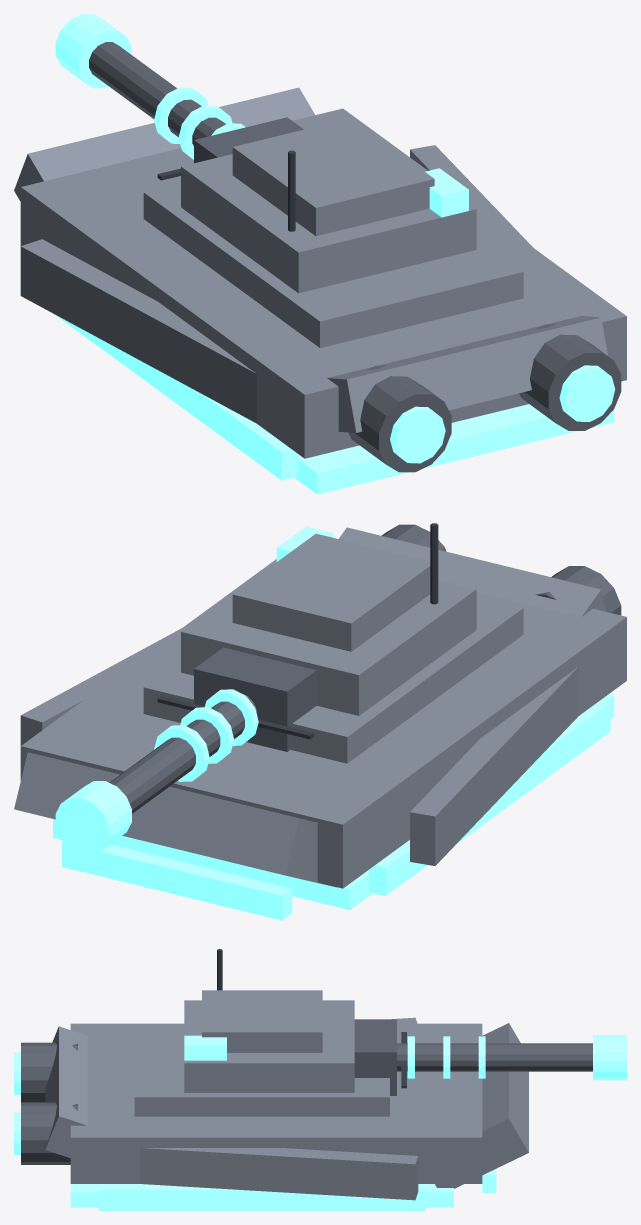
File: tank_hover.glb
3 renders of one model, top to bottom at view 1: azimuth 30°, elevation 25°; view 2: azimuth 150°, elevation 25°; view 3: azimuth 270°, elevation 25°, orthographic. The views are drawn at different scales.
Parts seen in each view (by area): view 1: TankHull_hover, TankTurret_hover; view 2: TankHull_hover, TankTurret_hover; view 3: TankHull_hover, TankTurret_hover.
Boxes of the visible parts, bbox=[...] form: TankHull_hover: bbox=[14, 87, 626, 494]; TankTurret_hover: bbox=[55, 14, 476, 293]; TankHull_hover: bbox=[14, 524, 626, 920]; TankTurret_hover: bbox=[55, 523, 476, 854]; TankHull_hover: bbox=[14, 1017, 528, 1210]; TankTurret_hover: bbox=[184, 949, 626, 1095].
Bounding box in the file's own units: 2.44 × 1.4 × 4.32.
